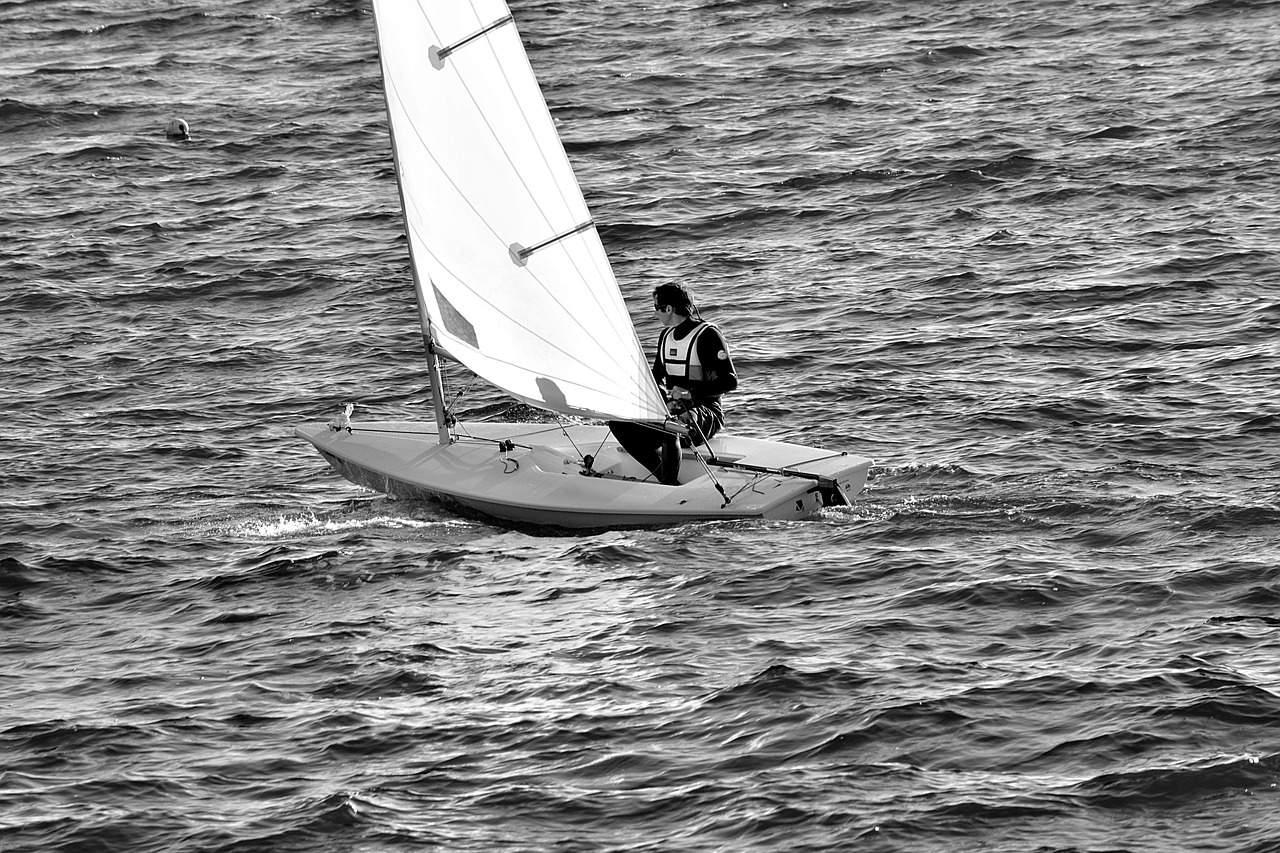Ship: (310, 1, 873, 531)
